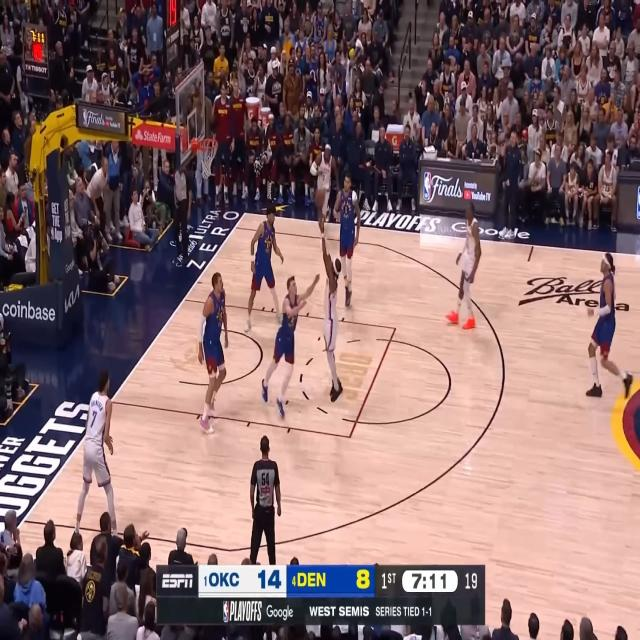ball: (314, 188, 326, 208)
number: (90, 409, 97, 429), (266, 240, 272, 248), (322, 174, 326, 182), (345, 205, 348, 215)
player: (73, 368, 118, 538), (584, 250, 634, 400), (243, 205, 285, 332), (196, 273, 229, 434), (444, 202, 482, 328), (332, 173, 362, 306), (310, 142, 340, 240)
player-jump-shot: (314, 187, 344, 402)
player-shot-block: (261, 272, 320, 418)
referee: (250, 432, 282, 564), (174, 163, 194, 268)
rim: (198, 138, 218, 150)
